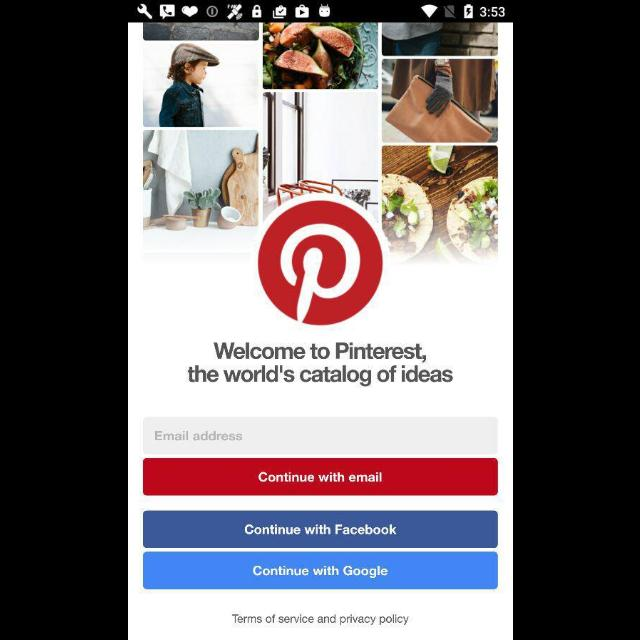image: (143, 23, 497, 264), (258, 194, 382, 326)
input: (142, 417, 498, 455)
text: (187, 342, 453, 388), (232, 614, 408, 626), (154, 432, 242, 441)
textbutton: (142, 458, 498, 496), (143, 510, 497, 548), (143, 552, 497, 588)
uppertaskbar: (128, 1, 512, 23)
